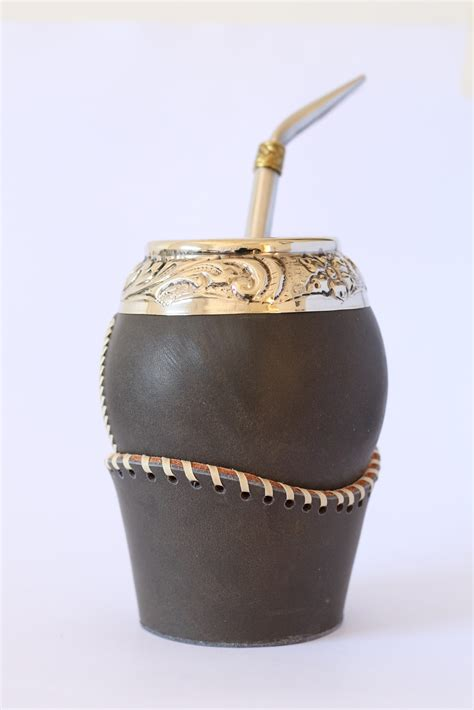cuero: (101, 309, 392, 647)
